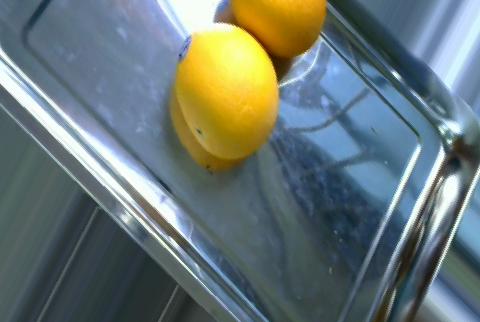Orange: (174, 22, 279, 159)
